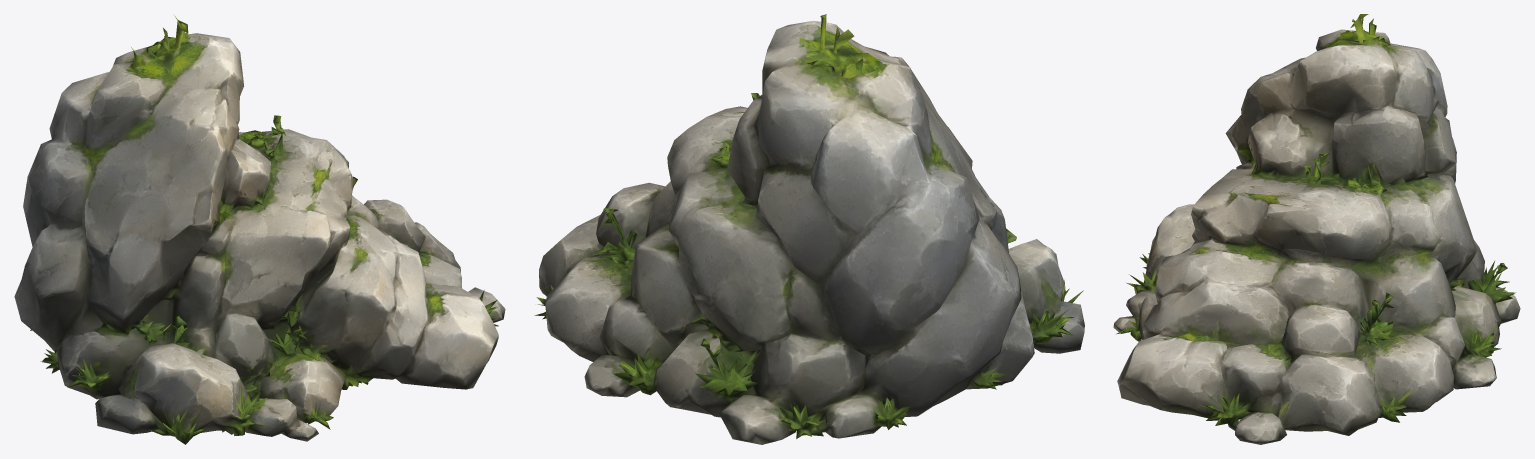
3 renders of one model, left to right at view 1: azimuth 30°, elevation 25°; view 2: azimuth 150°, elevation 25°; view 3: azimuth 270°, elevation 25°, orthographic. The views are drawn at different scales.
Parts seen in each view (by area): view 1: tripo_node_0f161745-6c30-4a33-9494-6686434f7cae; view 2: tripo_node_0f161745-6c30-4a33-9494-6686434f7cae; view 3: tripo_node_0f161745-6c30-4a33-9494-6686434f7cae.
Part boxes in pixels (box(x1,y1,x2,y2)): tripo_node_0f161745-6c30-4a33-9494-6686434f7cae: box(14, 15, 505, 444); tripo_node_0f161745-6c30-4a33-9494-6686434f7cae: box(534, 14, 1084, 444); tripo_node_0f161745-6c30-4a33-9494-6686434f7cae: box(1113, 14, 1520, 444).
Size of the model in its own units: 0.9817 by 0.7046 by 0.8286.
1 material, 1 textured.
